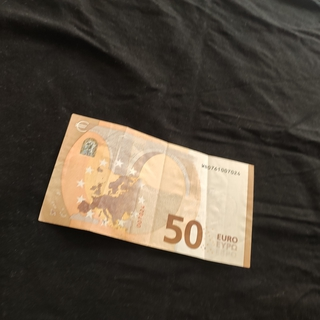50EUROBack: (36, 110, 255, 269)
